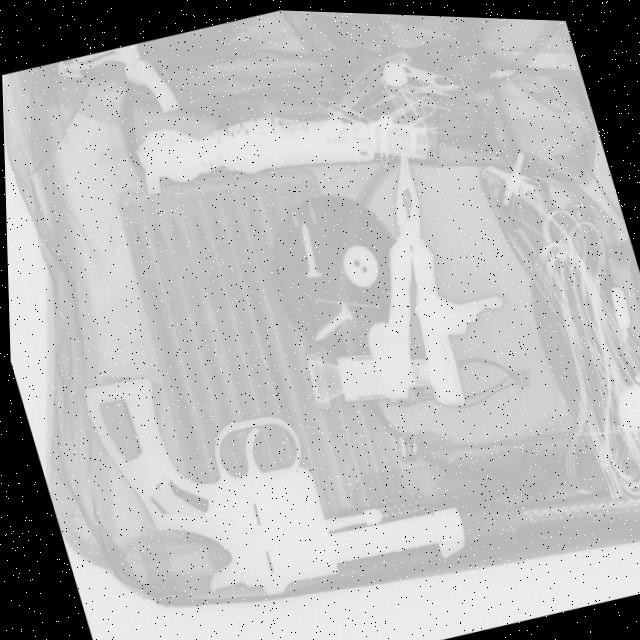pistol: (72, 297, 472, 637)
